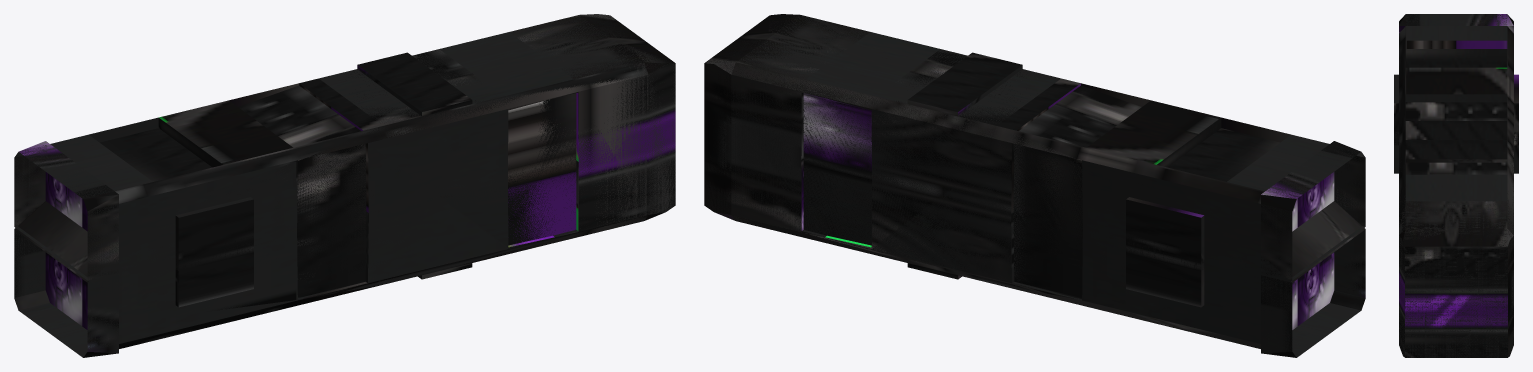
Rendered from flashlight.glb.
The picture shows the model from 3 angles, left to right: view 1: azimuth 30°, elevation 25°; view 2: azimuth 150°, elevation 25°; view 3: azimuth 270°, elevation 25°; orthographic projection. The views are drawn at different scales.
Parts seen in each view (by area): view 1: Cube; view 2: Cube; view 3: Cube.
Boxes of the visible parts, x1,y1,x2,y2 form: Cube: (14,14,675,357); Cube: (704,14,1365,357); Cube: (1394,14,1518,357).
Bounding box in the file's own units: 1.36 × 0.3668 × 0.3171.
1 material, 1 textured.
